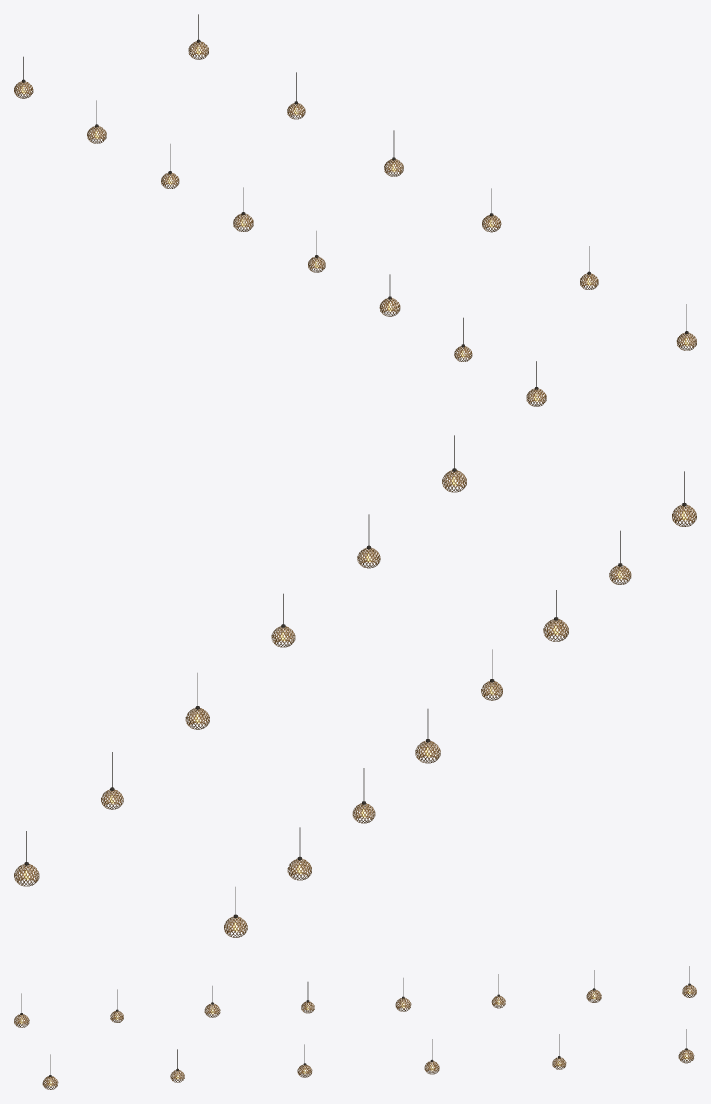
3 renders of one model, top to bottom at view 1: azimuth 30°, elevation 25°; view 2: azimuth 150°, elevation 25°; view 3: azimuth 270°, elevation 25°, orthographic. The views are drawn at different scales.
Visible parts, largest first — view 1: Woven pendants; view 2: Woven pendants; view 3: Woven pendants.
Boxes of the visible parts, <box> form: Woven pendants: <box>14,14,696,406</box>; Woven pendants: <box>14,435,696,937</box>; Woven pendants: <box>14,966,696,1089</box>.
Bounding box in the file's own units: 7.05 × 1.16 × 21.18.
1 material, 1 textured.
